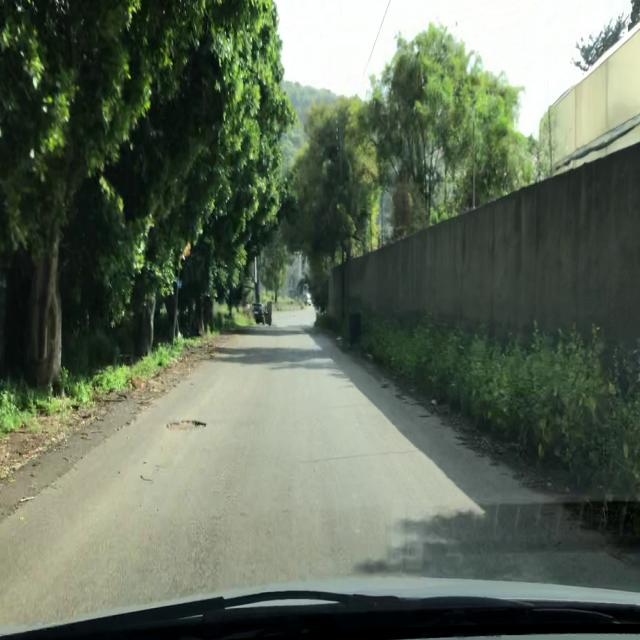Pothole: (162, 417, 208, 435)
